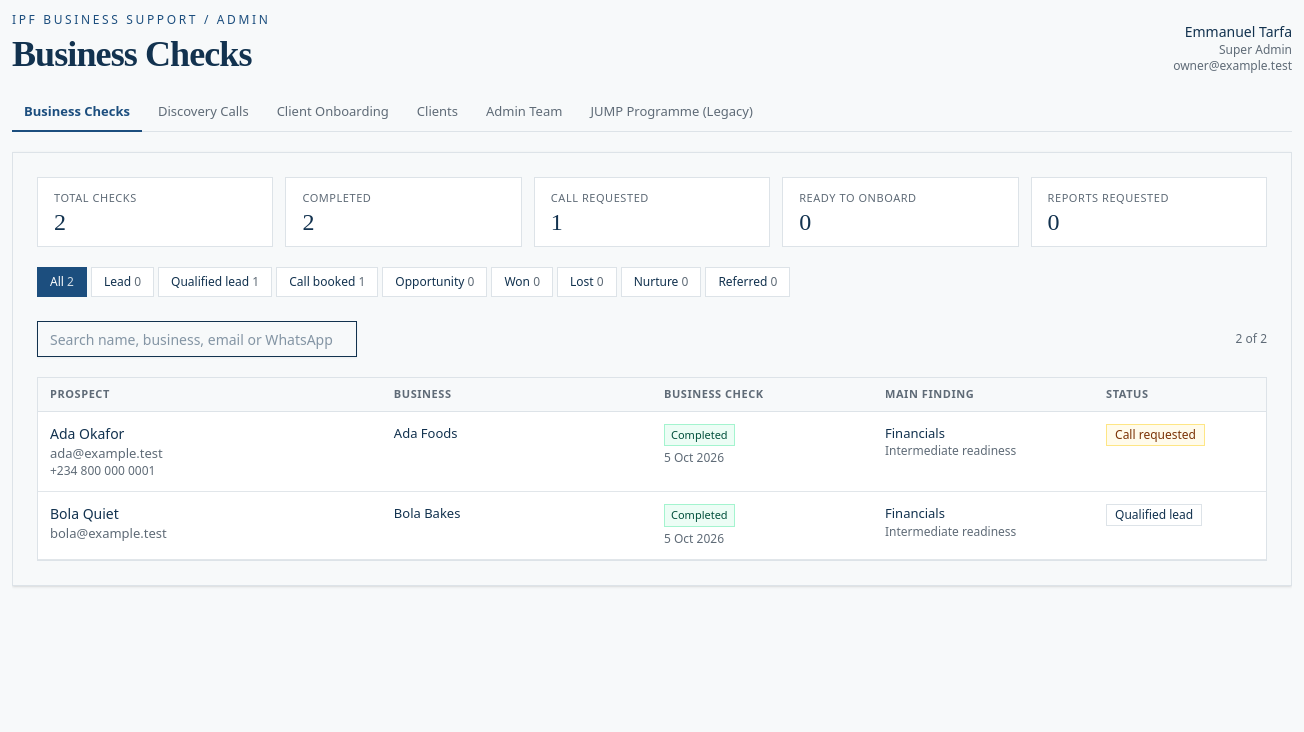
which sections each person sees (decided from what the server resolved) › keeps the JUMP desk, unmixed, in its own legacy section
The width and height of the screenshot is (1304, 732).
Expected: the text "JUMP REGISTRATION DESK" is not shown
Click the button "JUMP Programme (Legacy)" at (672, 113), box [578, 94, 765, 132]
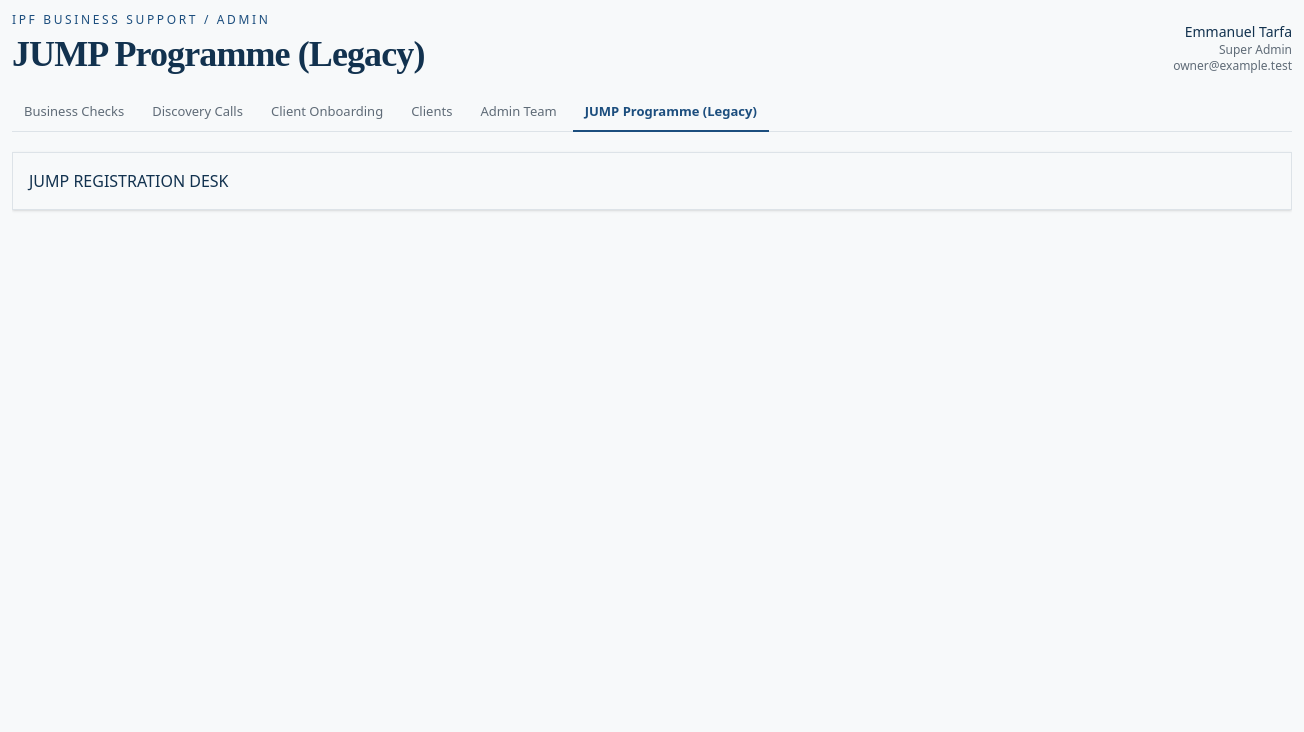
Now the text "JUMP REGISTRATION DESK" is shown, box [29, 170, 228, 192]
Now the button "Ada Okafor" is gone
